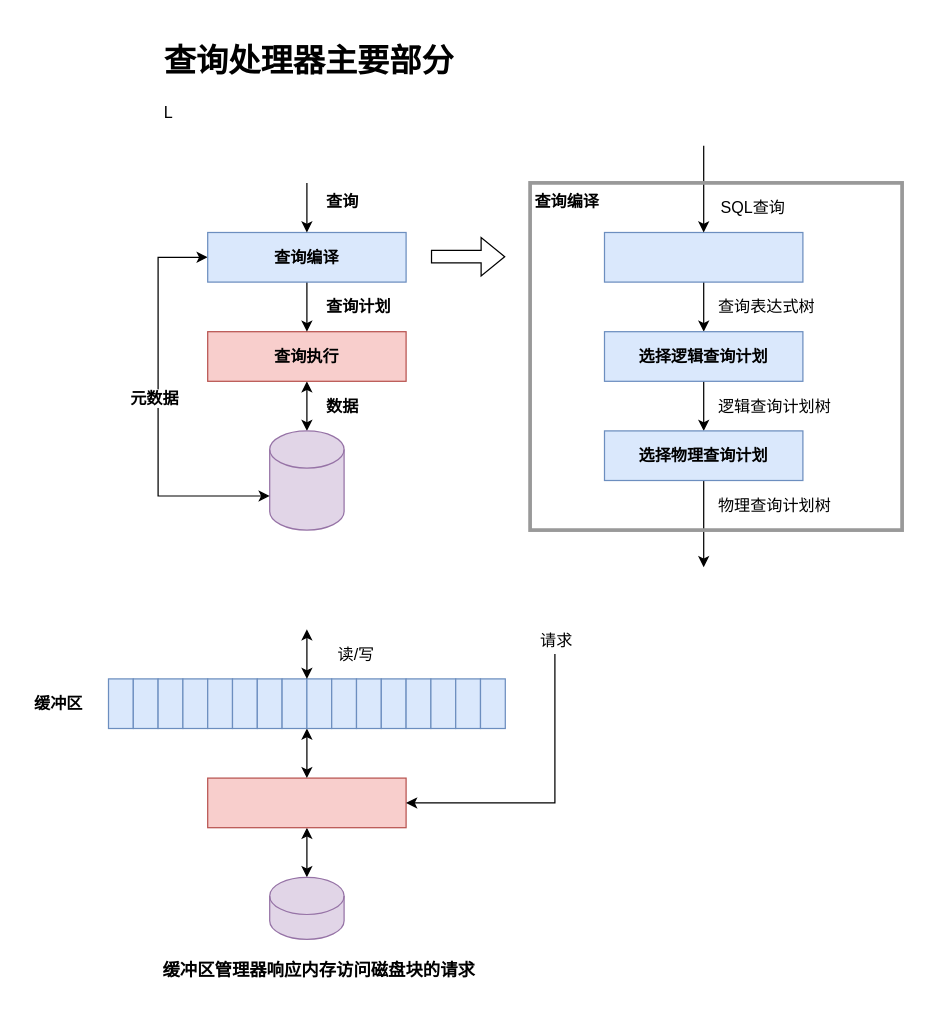
Image size: 925x1009. Some labels were removed from this diagram. Each missing label, with the centre of its shape:
"分析查询" belongs at [703,256].
"缓冲区管理器" belongs at [306,802].
